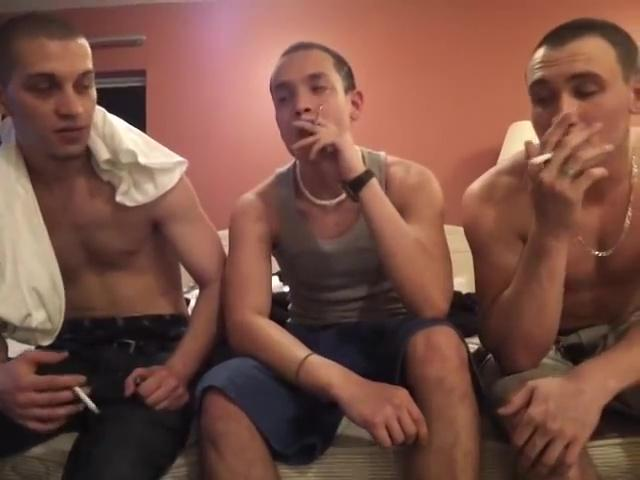cigarette: (70, 383, 101, 420), (526, 148, 559, 166), (316, 101, 325, 129)
